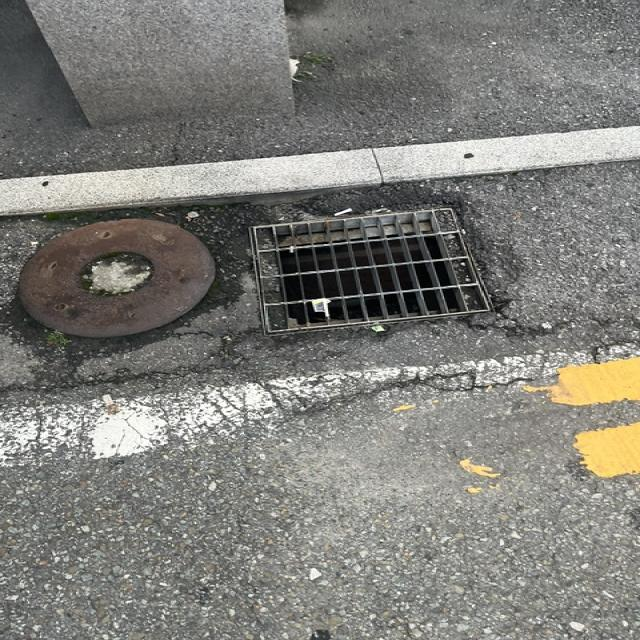drain_area: (273, 213, 466, 327)
drain_full: (252, 209, 494, 333)
